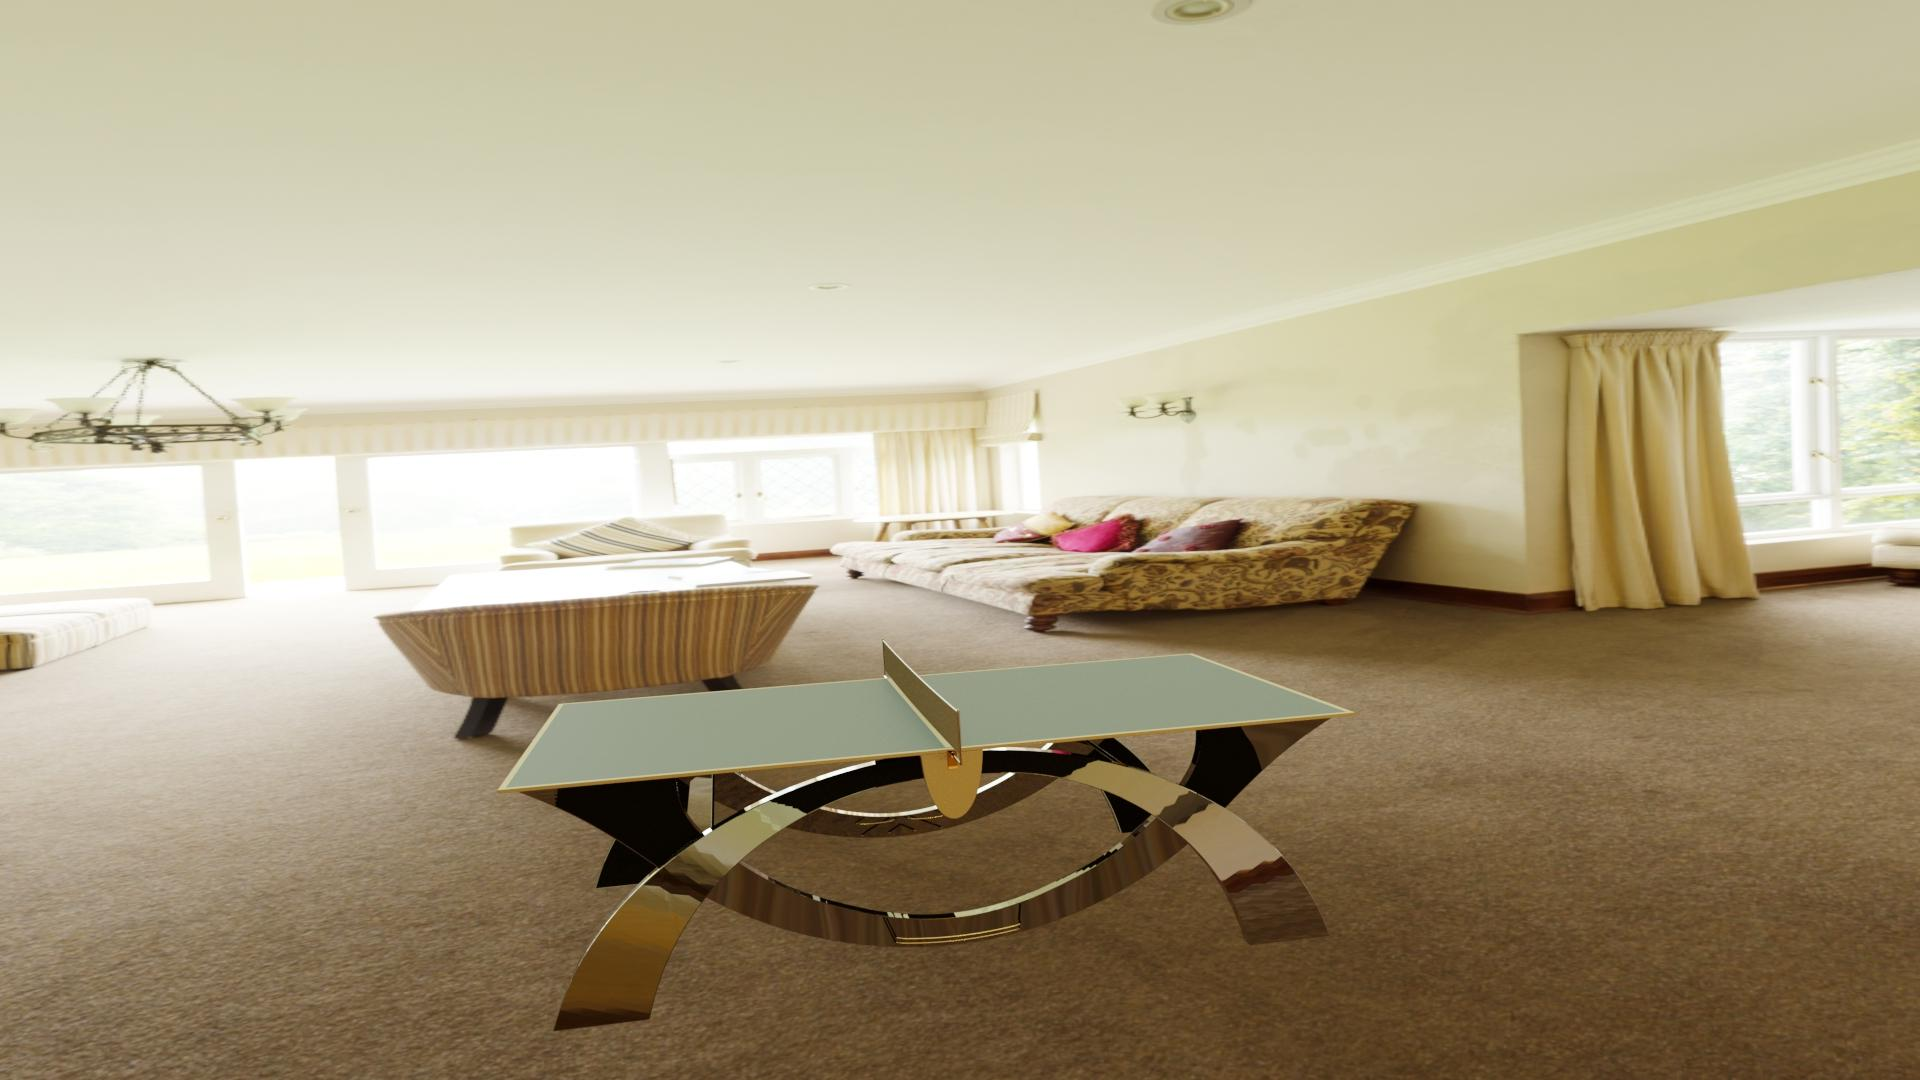table: (506, 654, 1346, 789)
